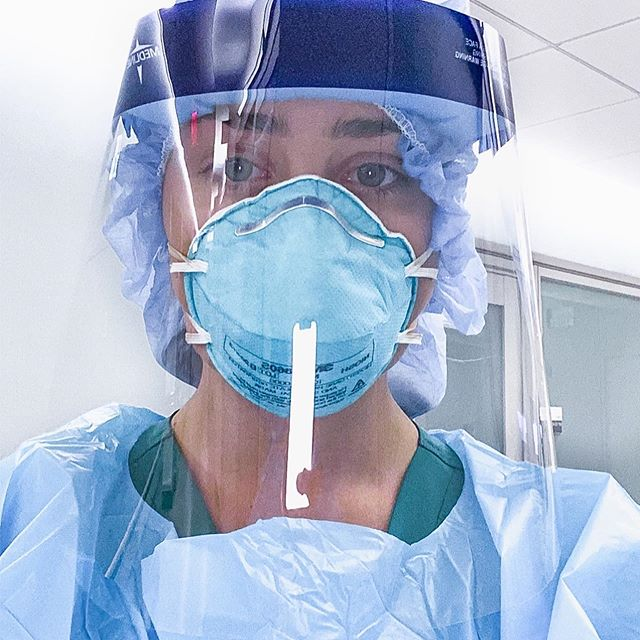n95: (173, 172, 442, 420)
